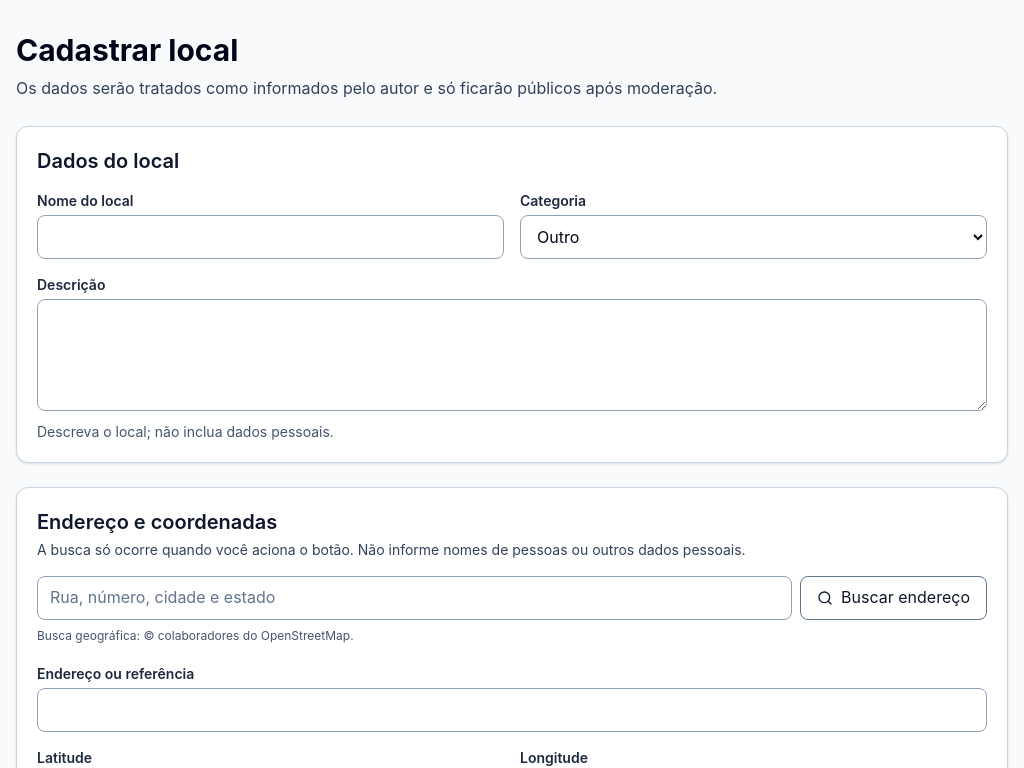
Test: NovoLocal › faz geocodificação apenas ao clicar e aceita GeoJSON
In the field named "Endereço para busca": coordinates (415, 598) top-left (37, 576), bottom-right (792, 620), type "Rua Fictícia"
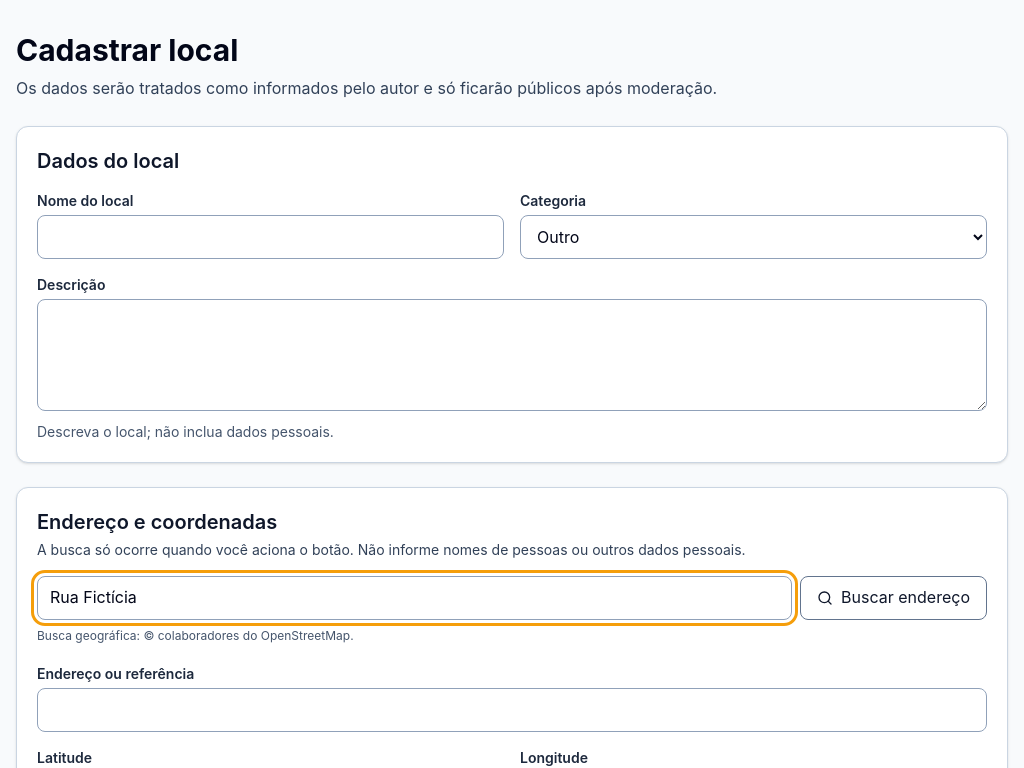
Click the button "Buscar endereço": coordinates (894, 598) top-left (800, 576), bottom-right (987, 620)
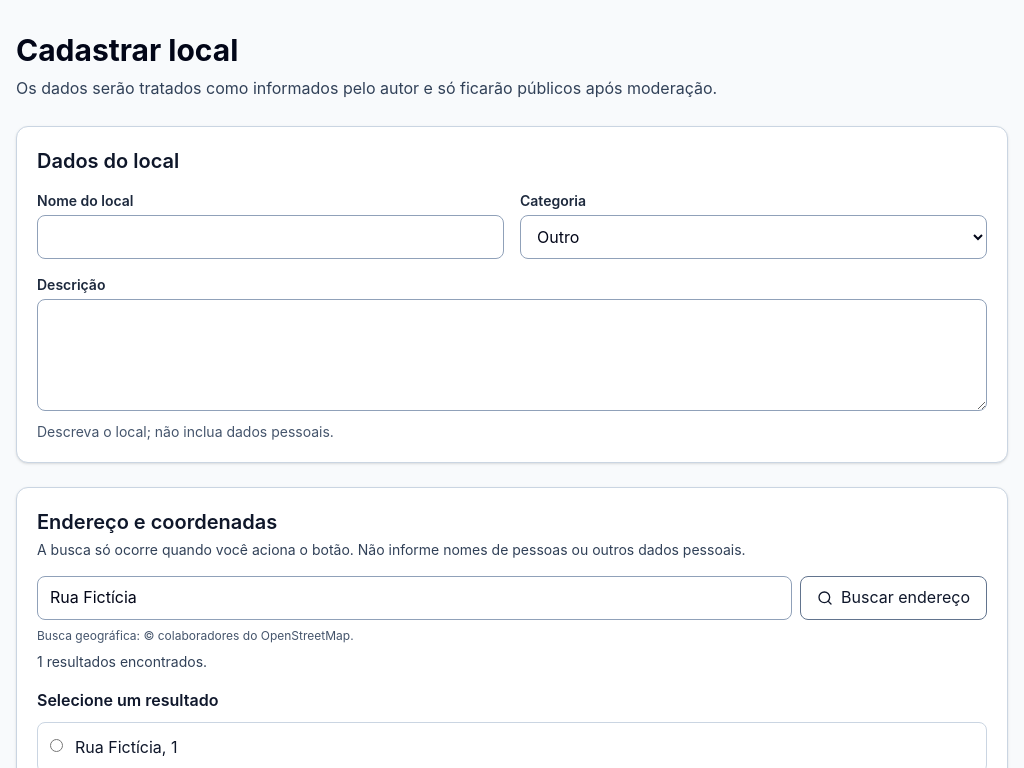
Click the radio button labelled "Rua Fictícia, 1": coordinates (56, 745) top-left (50, 739), bottom-right (63, 752)
(page scrolled)
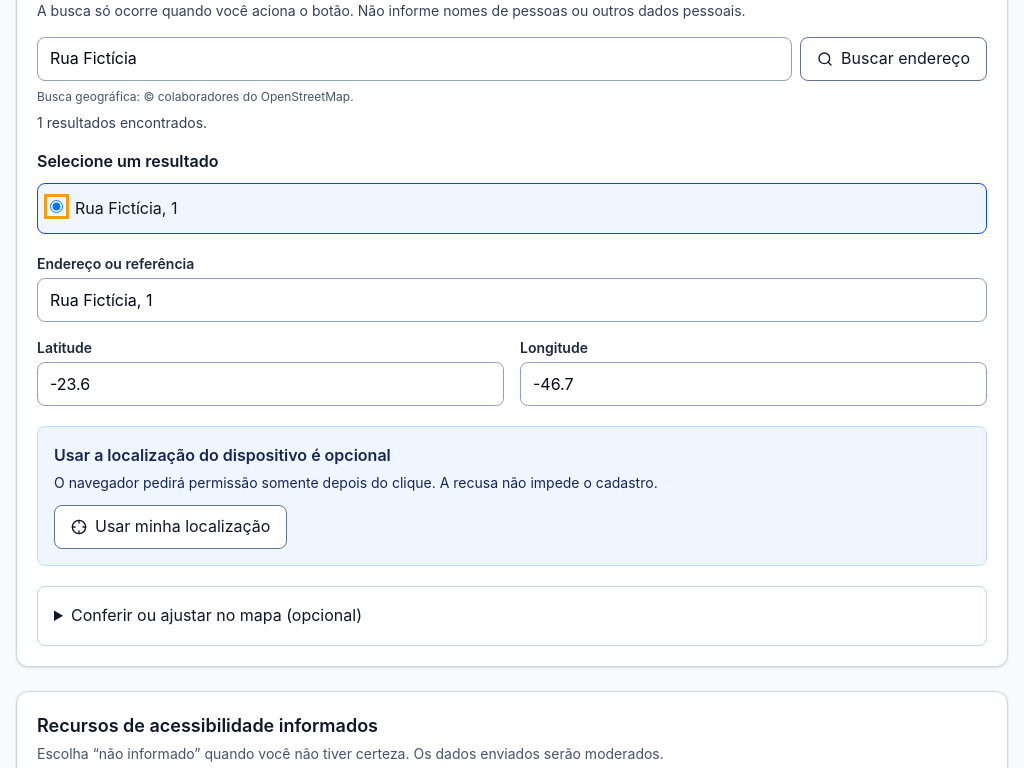
Check: the number field labelled "Latitude" holds "-23.6", box top-left (37, 362), bottom-right (504, 406)
Check: the number field labelled "Longitude" holds "-46.7", box top-left (520, 362), bottom-right (987, 406)
